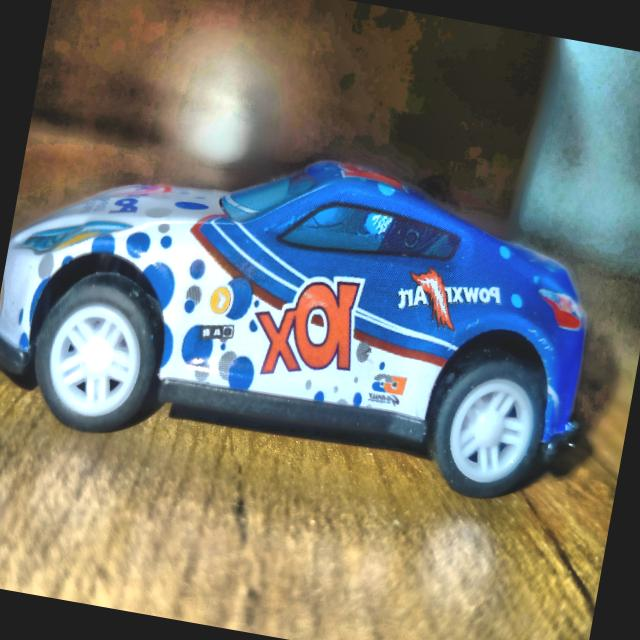Car: (0, 110, 614, 514)
